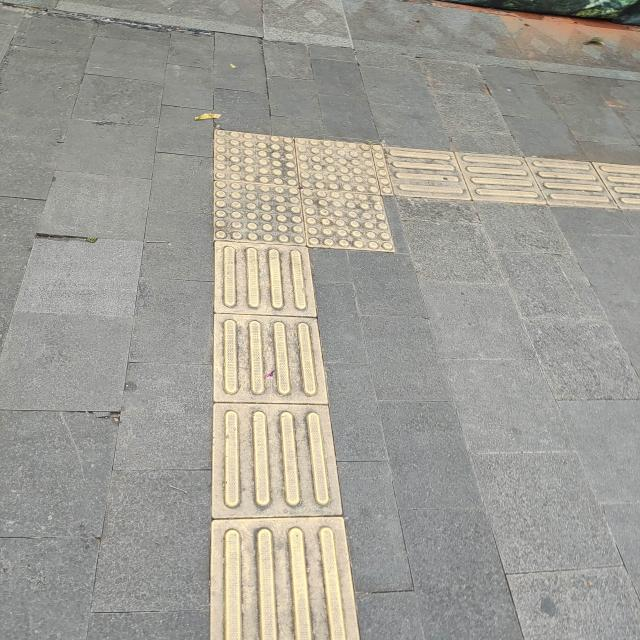kanan: (179, 96, 544, 300)
